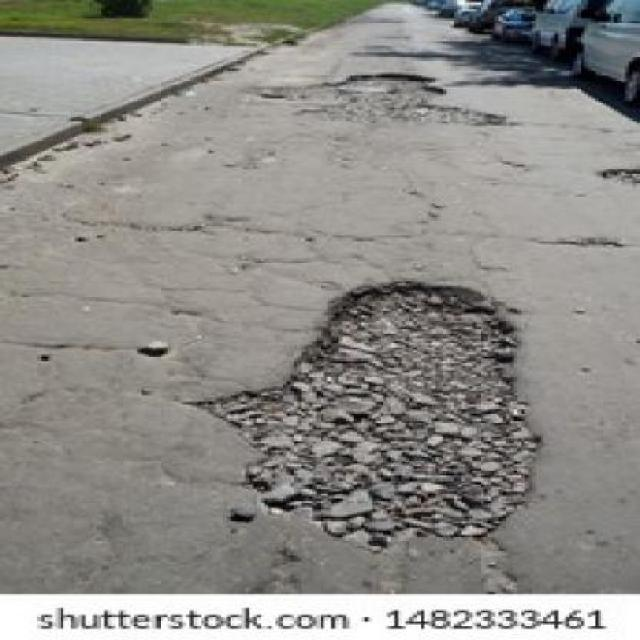Pothole: (202, 281, 540, 547), (259, 72, 509, 126)
